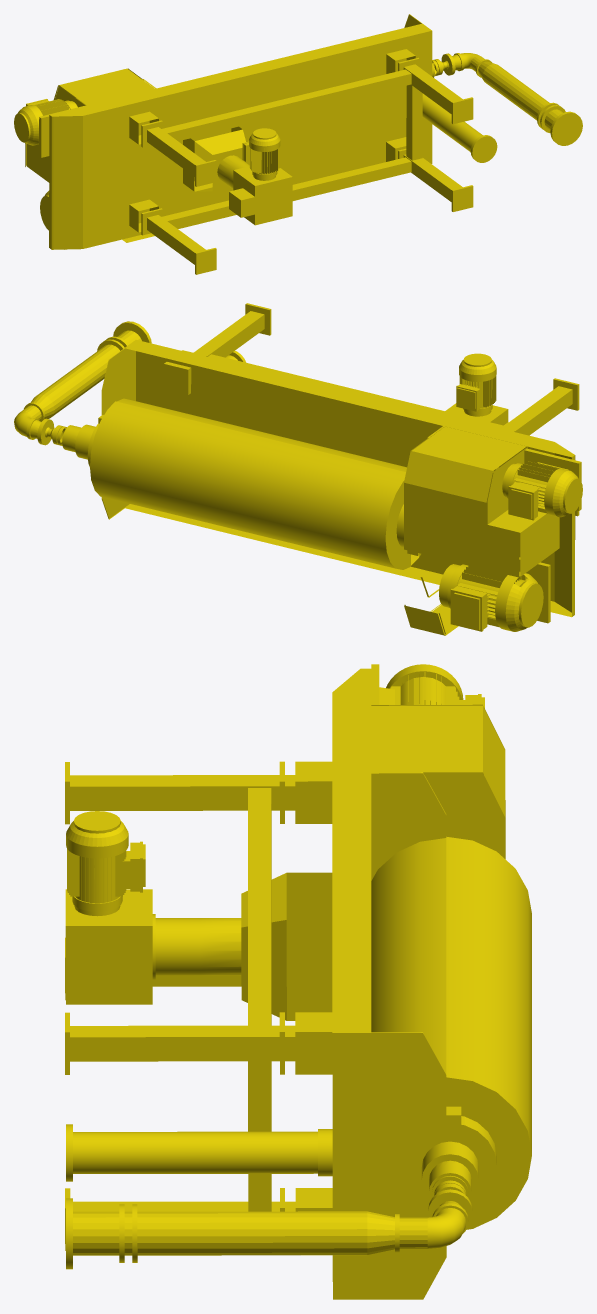
The model's file is decanter_yellow.glb.
3 renders of one model, top to bottom at view 1: azimuth 30°, elevation 25°; view 2: azimuth 150°, elevation 25°; view 3: azimuth 270°, elevation 25°, orthographic. The views are drawn at different scales.
Visible parts, largest first — view 1: Object_3; view 2: Object_3; view 3: Object_3.
Part boxes in pixels (x1,y1,x2,y2): Object_3: (14, 14, 582, 274); Object_3: (14, 303, 582, 635); Object_3: (65, 664, 531, 1299).
Size of the model in its own units: 116 by 34.63 by 49.78.
